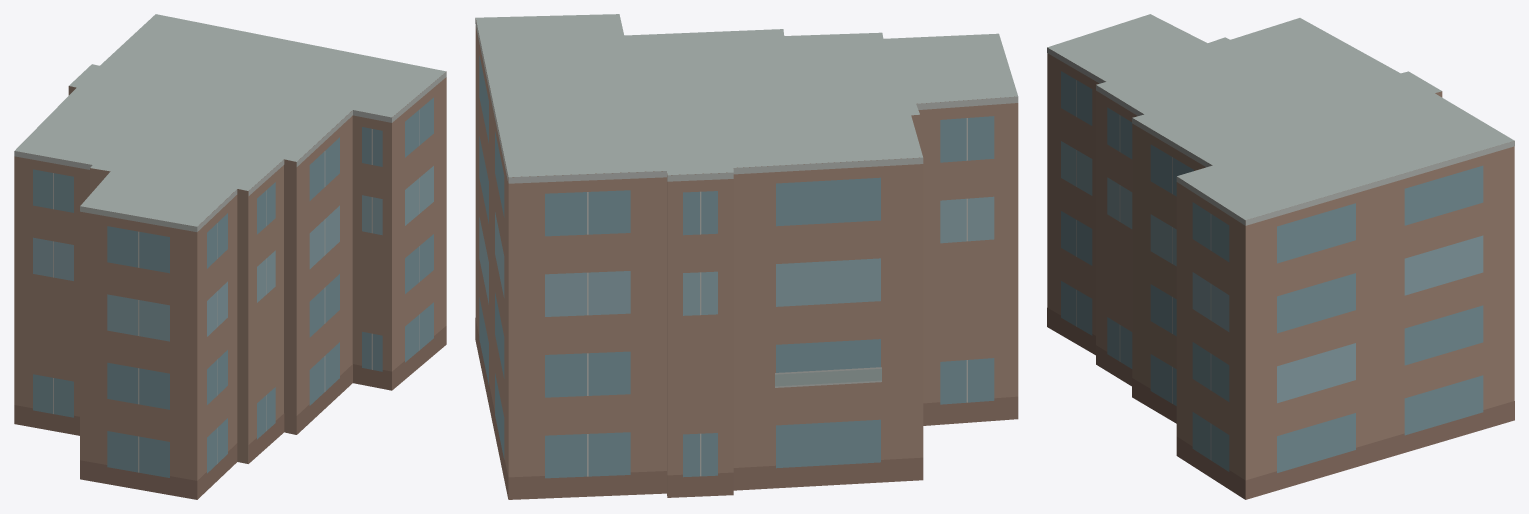
File: survey-upis-32682118.glb
3 renders of one model, left to right at view 1: azimuth 30°, elevation 25°; view 2: azimuth 150°, elevation 25°; view 3: azimuth 270°, elevation 25°, orthographic. The views are drawn at different scales.
Visible parts, largest first — view 1: survey-upis-32682118.tmp; view 2: survey-upis-32682118.tmp; view 3: survey-upis-32682118.tmp.
Part boxes in pixels (x1=…): survey-upis-32682118.tmp: x1=14, y1=14, x2=446, y2=499; survey-upis-32682118.tmp: x1=475, y1=14, x2=1018, y2=499; survey-upis-32682118.tmp: x1=1047, y1=14, x2=1514, y2=499.
Bounding box in the file's own units: 19.31 × 12.2 × 18.5.
